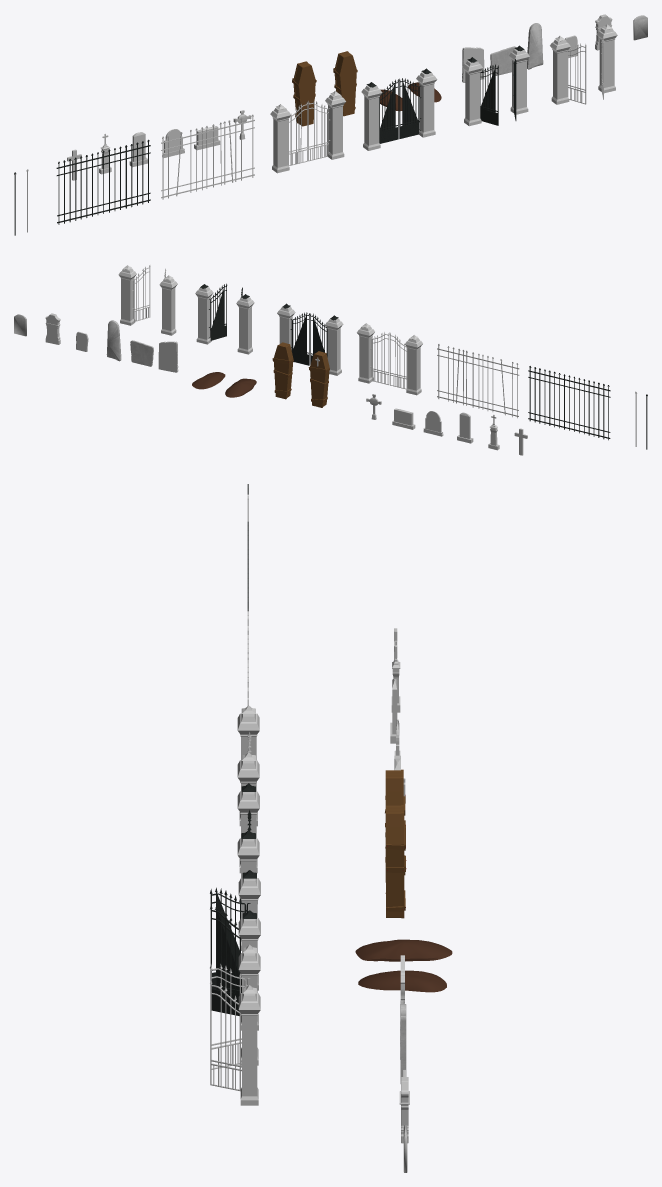
Rendered from uploads_files_3453089_Cemetery.fbx.
The picture shows the model from 3 angles, top to bottom: view 1: azimuth 30°, elevation 25°; view 2: azimuth 150°, elevation 25°; view 3: azimuth 270°, elevation 25°; orthographic projection. The views are drawn at different scales.
Parts seen in each view (by area): view 1: New Cemetery Gate Closed, Old Cemetery Gate Closed, New Cemetery Gate Open, Old Cemetery Gate Open, New Fence, Old Fence, Wooden Coffin With a Cross, Wooden Coffin, Headstone 4, Headstone 5, Headstone 8, Headstone 6 (+3 smaller); view 2: Old Cemetery Gate Closed, New Cemetery Gate Closed, New Cemetery Gate Open, Old Cemetery Gate Open, New Fence, Old Fence, Wooden Coffin, Wooden Coffin With a Cross, Headstone 6, Headstone 5, Headstone 4, Headstone 2 (+5 smaller); view 3: Old Cemetery Gate Open, New Cemetery Gate Open, Wooden Coffin, Grave Ground 1, New Cemetery Gate Closed, Old Cemetery Gate Closed, Grave Ground 2.
Part boxes in pixels (bbox=[...]): New Cemetery Gate Closed: bbox=[361, 68, 437, 150]; Old Cemetery Gate Closed: bbox=[270, 90, 345, 173]; New Cemetery Gate Open: bbox=[462, 45, 529, 126]; Old Cemetery Gate Open: bbox=[550, 24, 617, 104]; New Fence: bbox=[56, 139, 150, 224]; Old Fence: bbox=[161, 114, 254, 199]; Wooden Coffin With a Cross: bbox=[292, 61, 316, 126]; Wooden Coffin: bbox=[333, 51, 357, 116]; Headstone 4: bbox=[527, 23, 543, 69]; Headstone 5: bbox=[490, 46, 516, 75]; Headstone 8: bbox=[129, 132, 147, 167]; Headstone 6: bbox=[462, 47, 484, 82]; Old Cemetery Gate Closed: bbox=[357, 323, 422, 395]; New Cemetery Gate Closed: bbox=[277, 303, 343, 375]; New Cemetery Gate Open: bbox=[195, 283, 254, 354]; Old Cemetery Gate Open: bbox=[118, 265, 177, 335]; New Fence: bbox=[528, 366, 610, 440]; Old Fence: bbox=[437, 344, 519, 418]; Wooden Coffin: bbox=[272, 342, 293, 399]; Wooden Coffin With a Cross: bbox=[308, 351, 329, 407]; Headstone 6: bbox=[158, 341, 178, 372]; Headstone 5: bbox=[130, 340, 153, 366]; Headstone 4: bbox=[106, 320, 121, 361]; Headstone 2: bbox=[45, 313, 60, 344]; Old Cemetery Gate Open: bbox=[210, 944, 260, 1105]; New Cemetery Gate Open: bbox=[210, 870, 260, 1030]; Wooden Coffin: bbox=[385, 805, 406, 918]; Grave Ground 1: bbox=[355, 939, 452, 961]; New Cemetery Gate Closed: bbox=[237, 783, 259, 950]; Old Cemetery Gate Closed: bbox=[237, 705, 259, 873]; Grave Ground 2: bbox=[358, 970, 446, 992].
Bounding box in the file's own units: 10274 × 993 × 1819.
